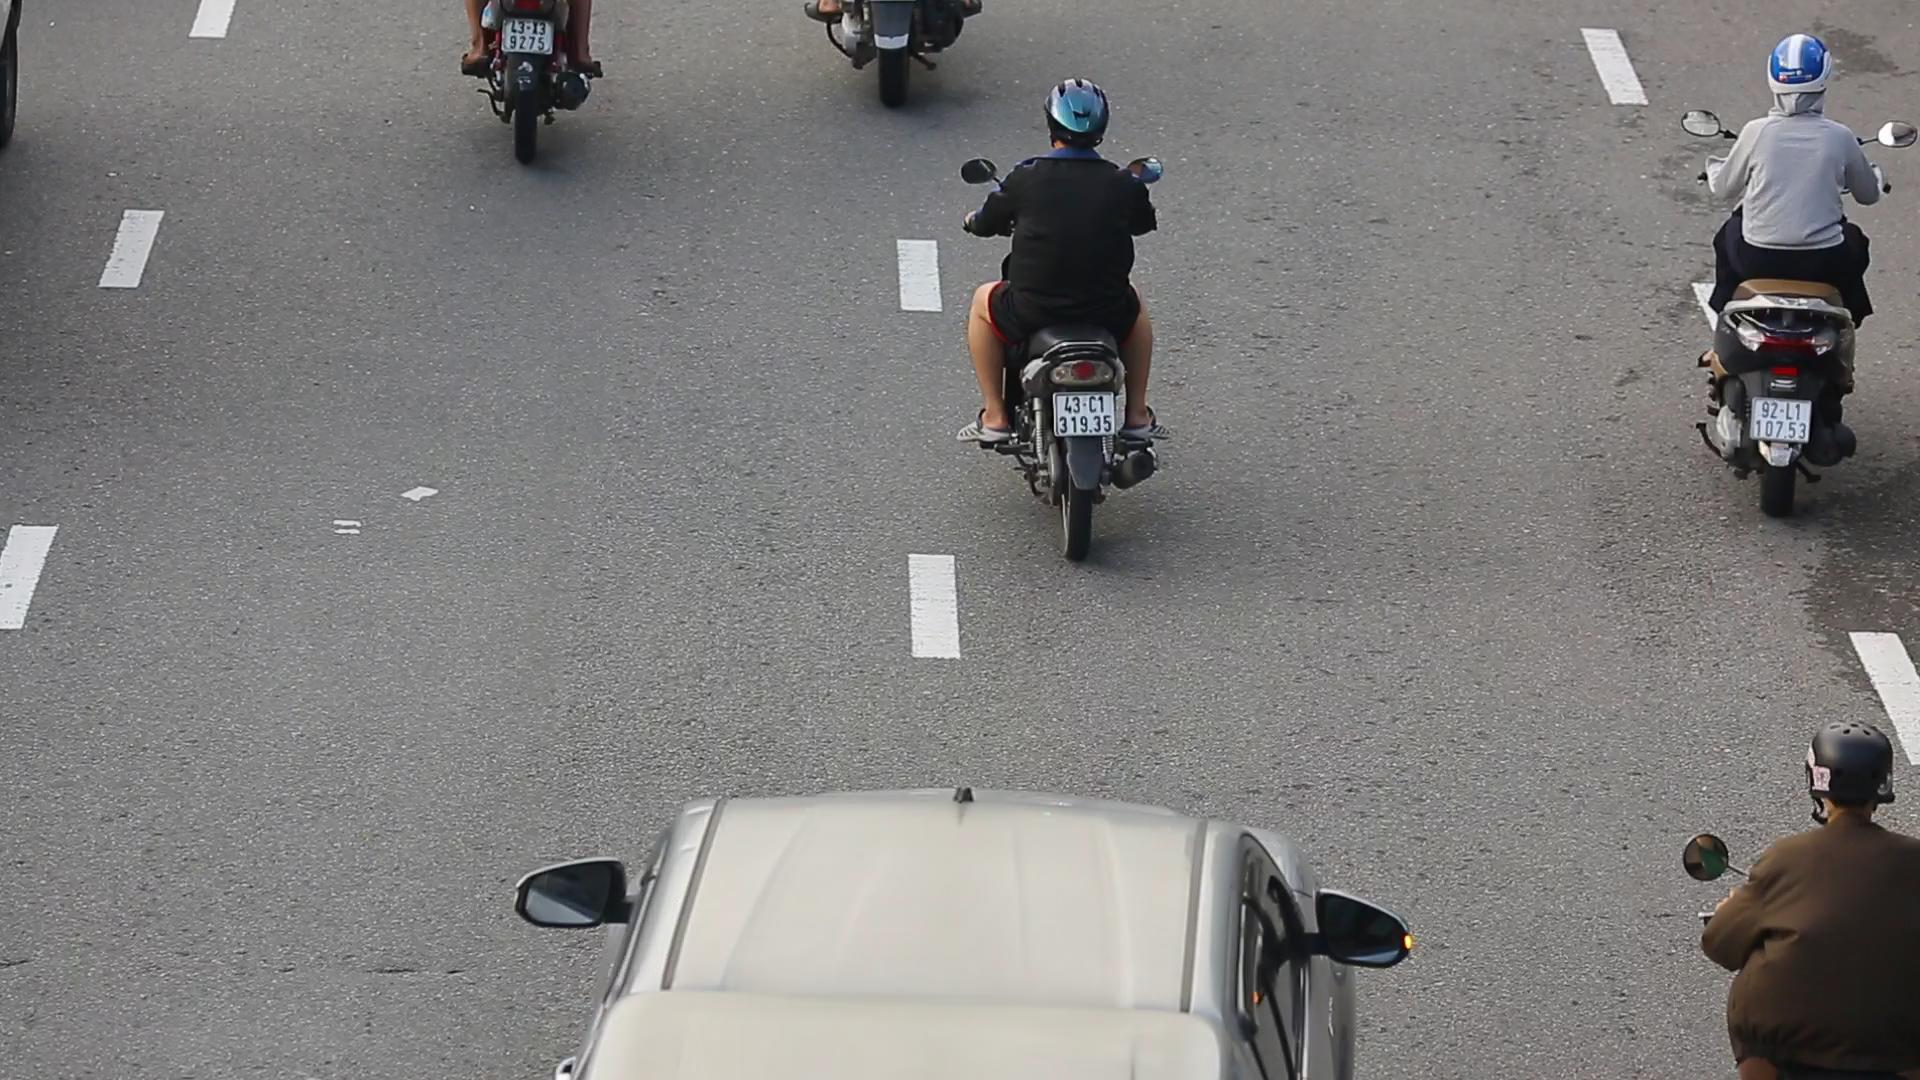motobike: (1665, 18, 1919, 524), (959, 69, 1178, 583)
